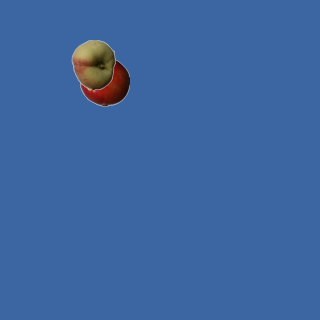Apple Braeburn: (79, 56, 129, 106)
Peach Flat: (68, 39, 118, 89)
